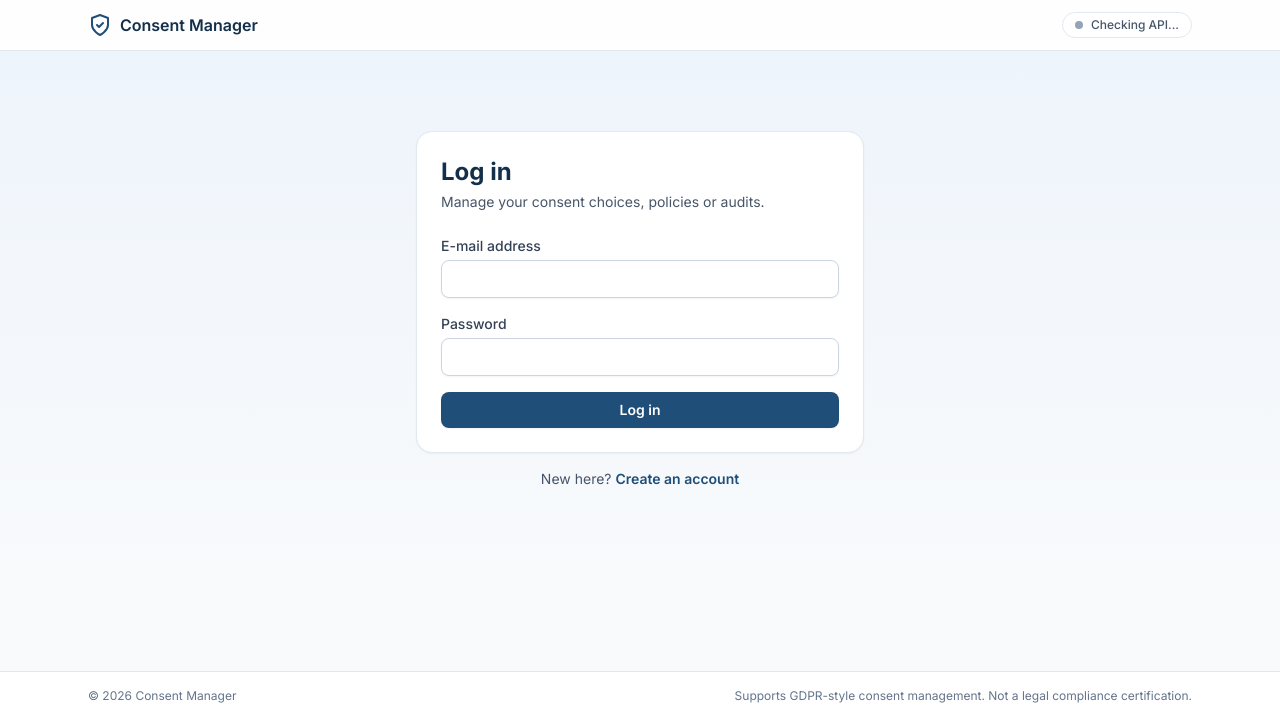
login (FR-2) › a USER lands on the consent dashboard
The width and height of the screenshot is (1280, 720).
Type "user@demo.com" into the field labelled "E-mail address". click: (640, 279)
box: [441,260,839,298]
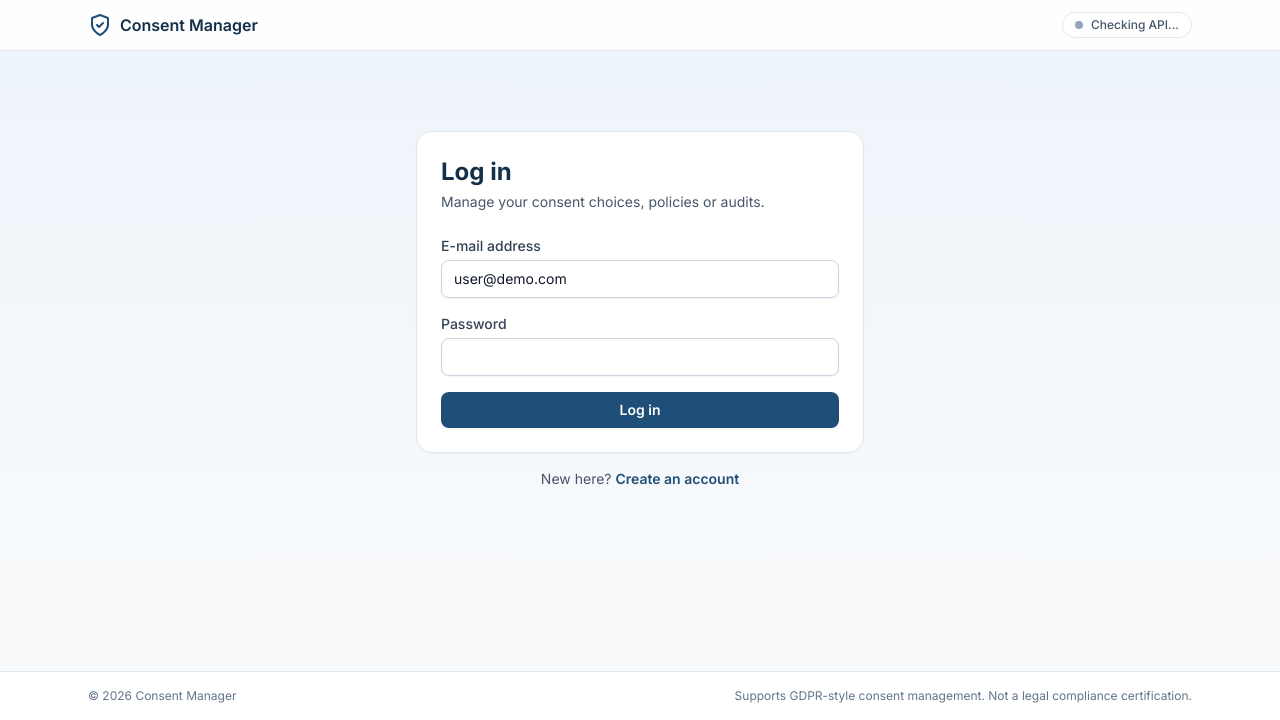
Type "Demo@12345" into the password field labelled "Password". click: (640, 357)
box: [441,338,839,376]
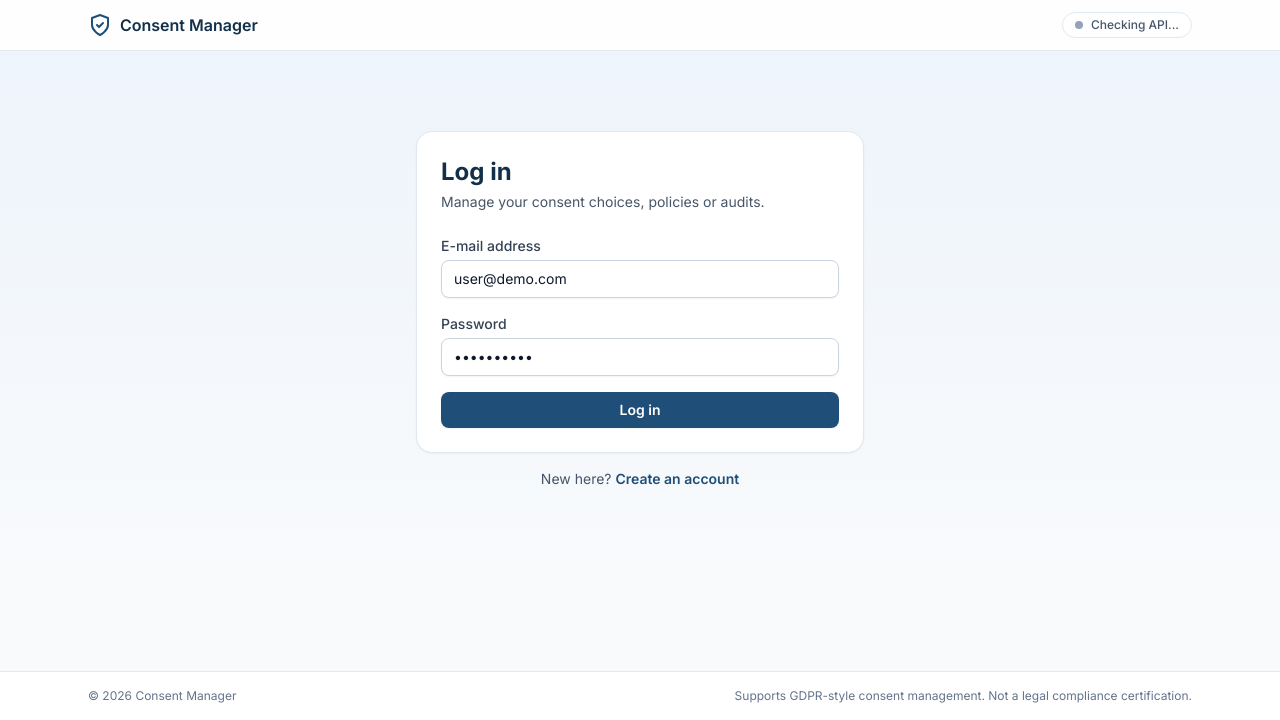
Click the button "Log in". click: (640, 410)
box: [441,392,839,428]
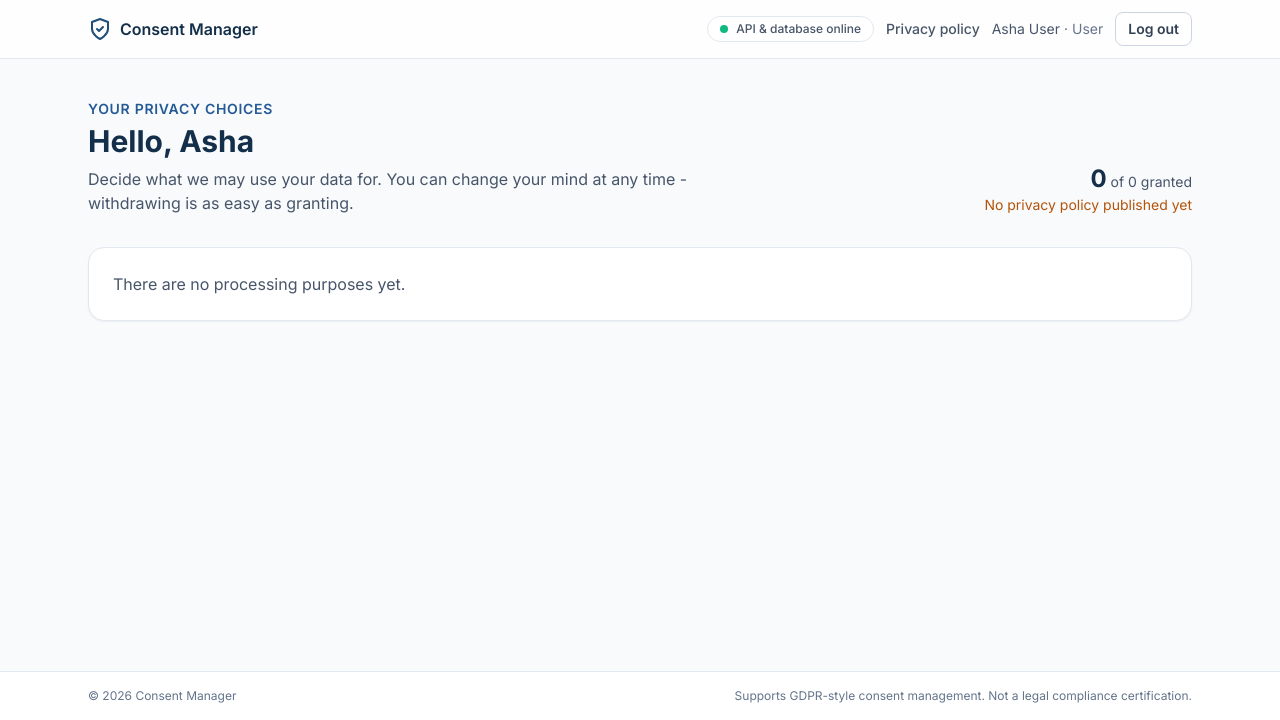
Result: the heading "Hello, Asha" is shown at [88,123,254,159]
